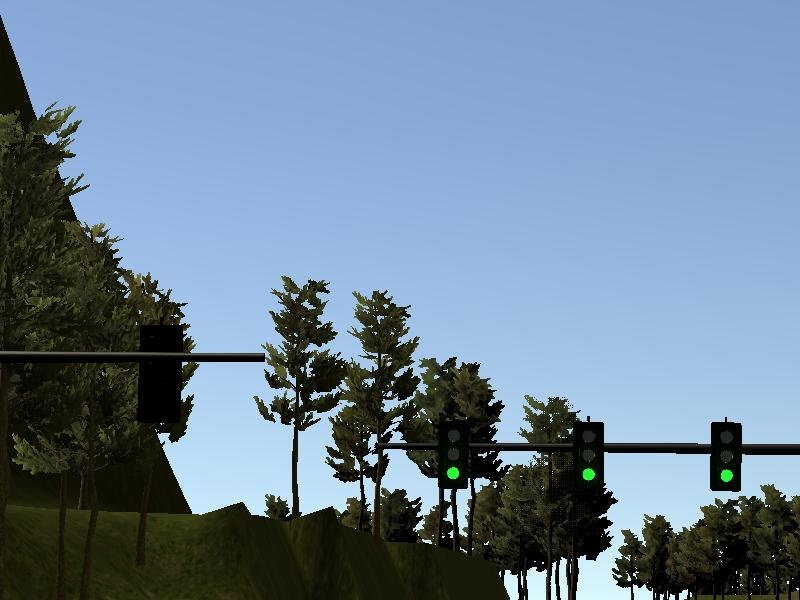GREEN: (711, 424, 742, 491), (438, 422, 469, 488), (575, 423, 603, 490)
